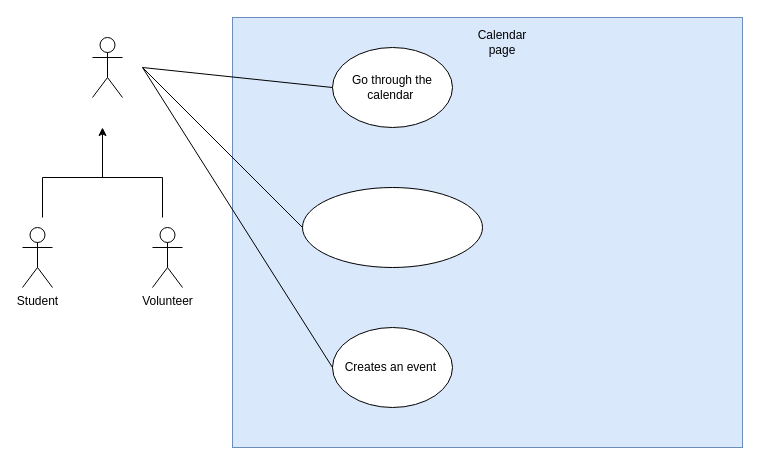
This 760x465 diagram has some shape labels left out. Each missing label, with the box of its shape:
Checks details on an event or assignment: (302, 186, 482, 268)
User: (92, 36, 122, 98)
